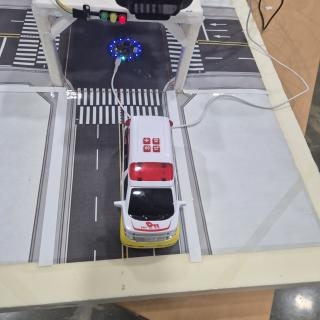Ambulance: (114, 116, 186, 248)
